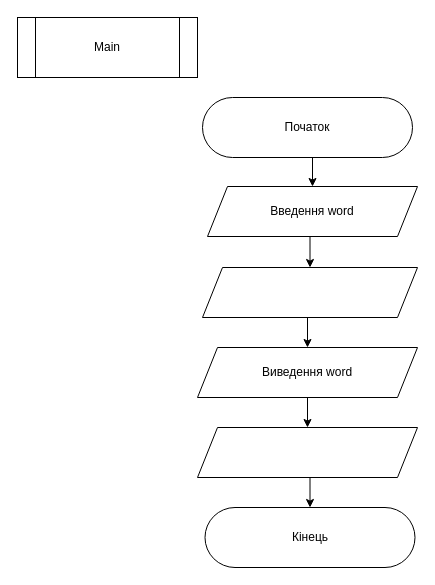
This 435x585 diagram has some shape labels left out. The shapes that lost their labels are listed below. From the top down, each one's centre as x and y in pixels, then its label:
[310,292]: int count = Counting(ref word);
[307,452]: Виведення count
